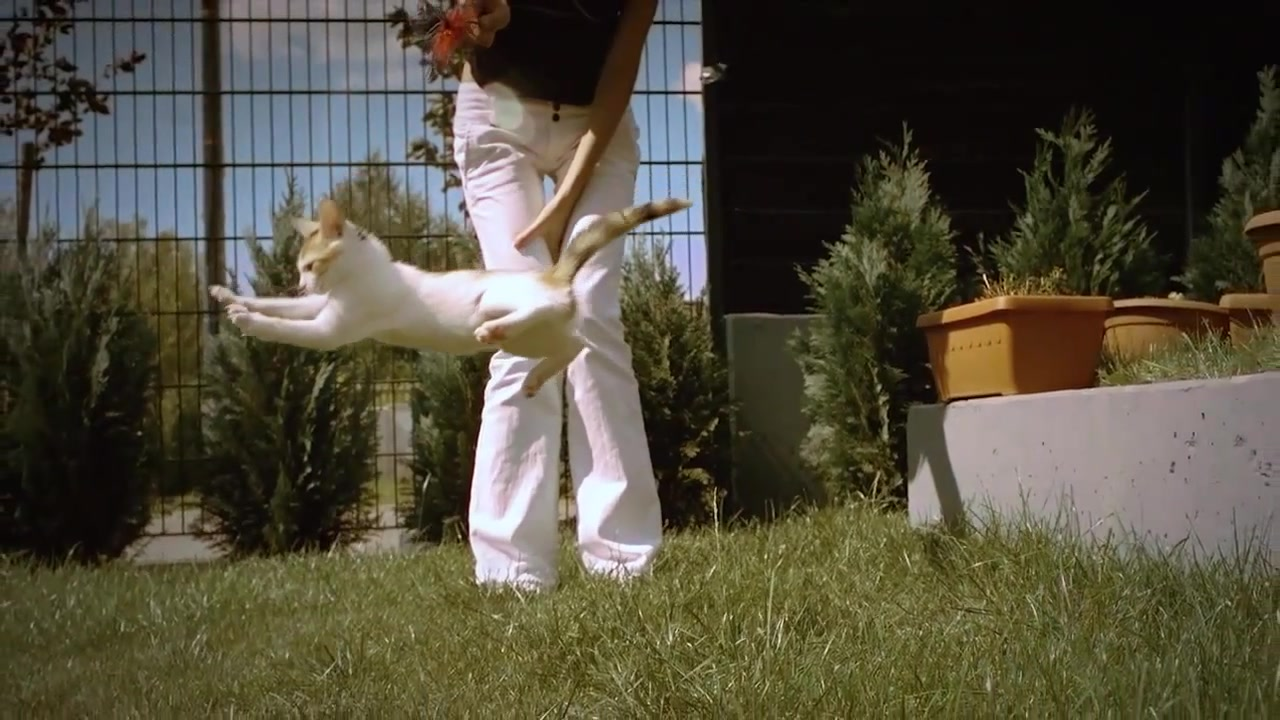cat: (206, 196, 698, 397)
